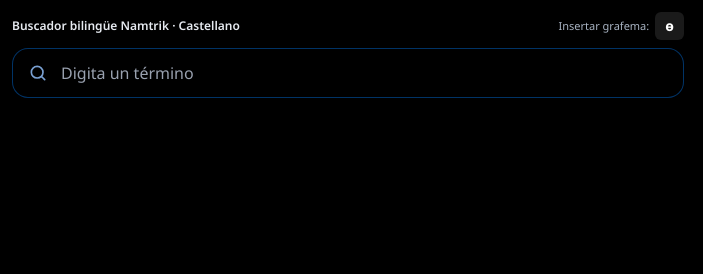
SearchBox › soporta atributos accesibles combobox, navegación por teclado y botón de limpieza
The width and height of the screenshot is (703, 274).
Note: Escribir texto activa el desplegable
Type "mɵ" into the dropdown at (348, 73), box [12, 48, 684, 98]
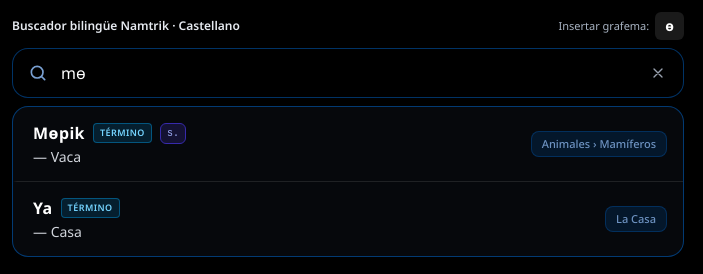
Expected: the dropdown is expanded
Expected: the number of options is 2, [13, 107, 683, 182]; [33, 197, 667, 241]
Note: Navegación por flecha abajo con IDs acotados por instancia (useId)
Press ArrowDown in the dropdown, box [12, 48, 684, 98]
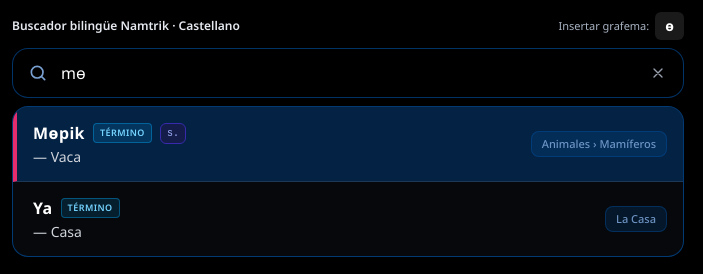
Expected: the button named "Limpiar búsqueda" is shown
Click the button named "Limpiar búsqueda" at (658, 73), box [644, 59, 672, 87]
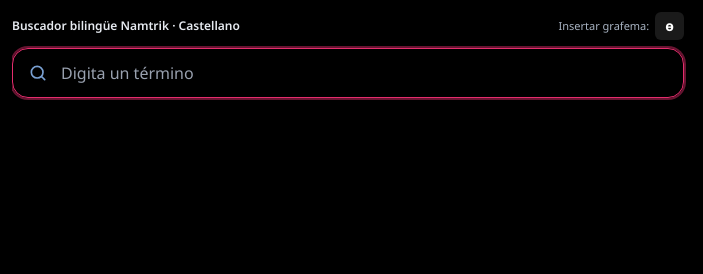
Expected: the dropdown is empty, [12, 48, 684, 98]
